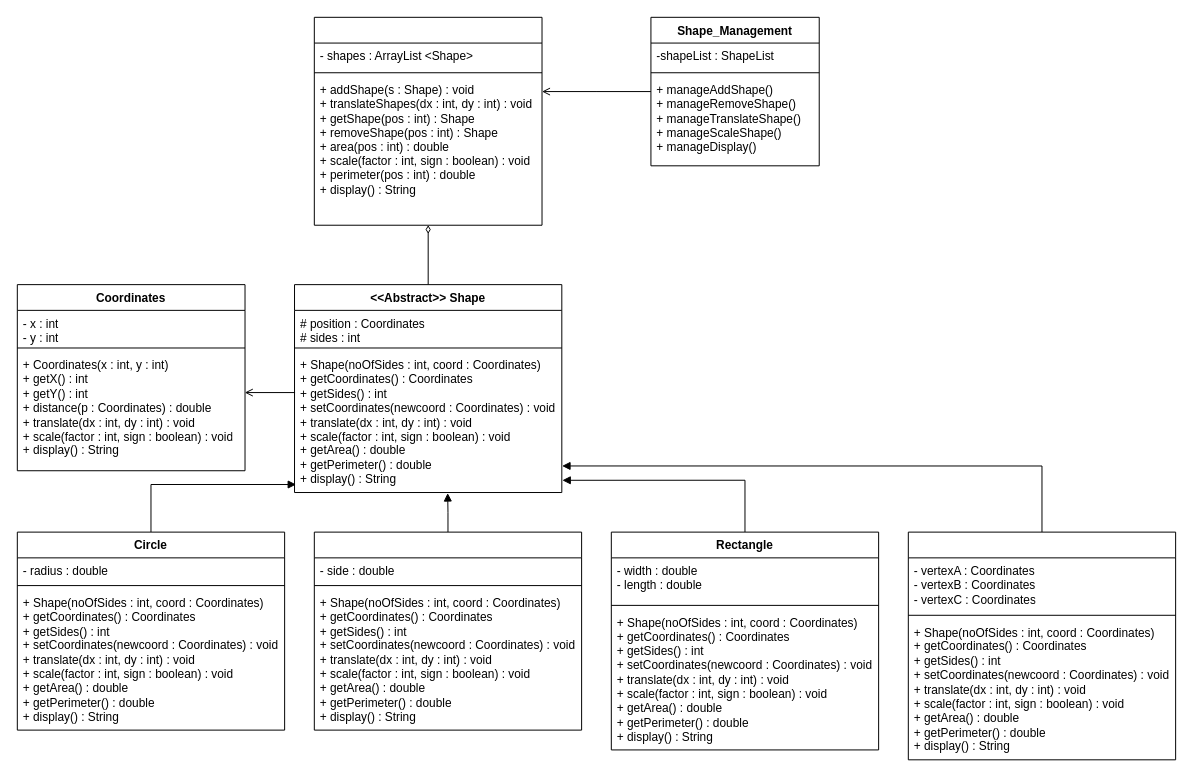
The diagram is 1193 pixels wide and 780 high, and some of its shapes have lost their labels. Each missing label, with the box of its shape:
Shape_List: (313, 16, 542, 225)
Square: (313, 531, 582, 730)
Triangle: (907, 531, 1176, 760)
